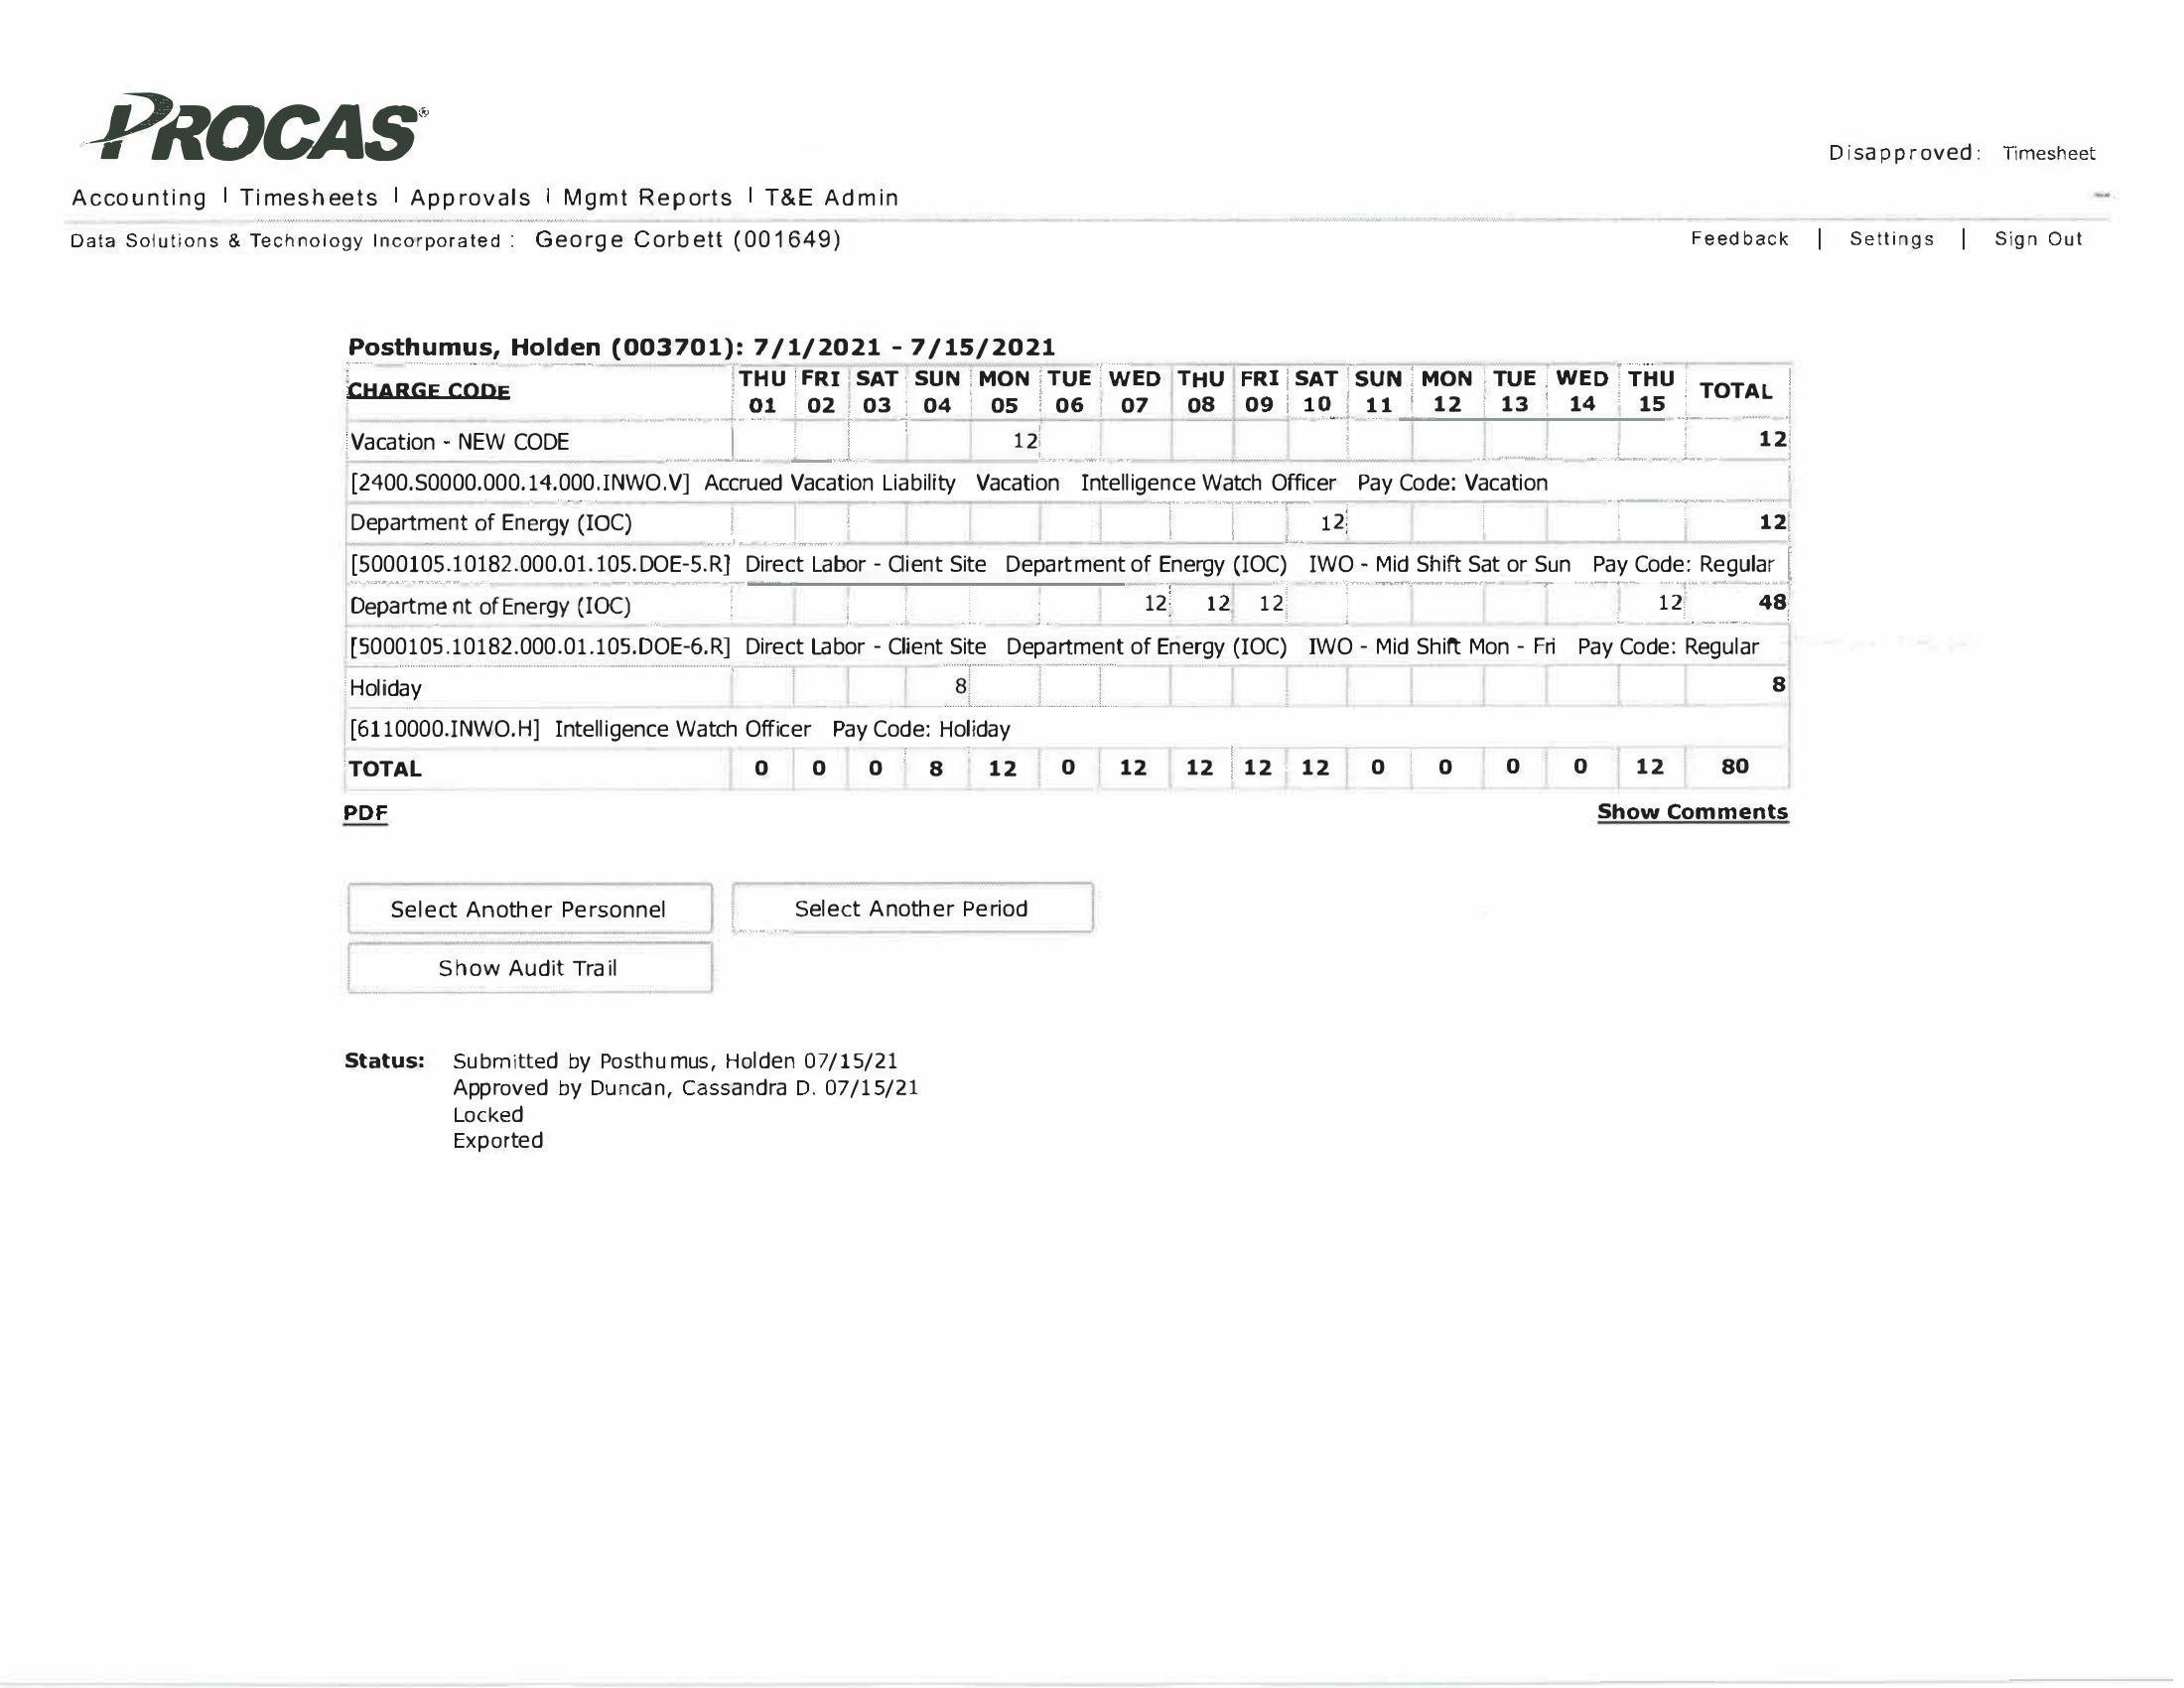table: (331, 356, 1812, 791)
